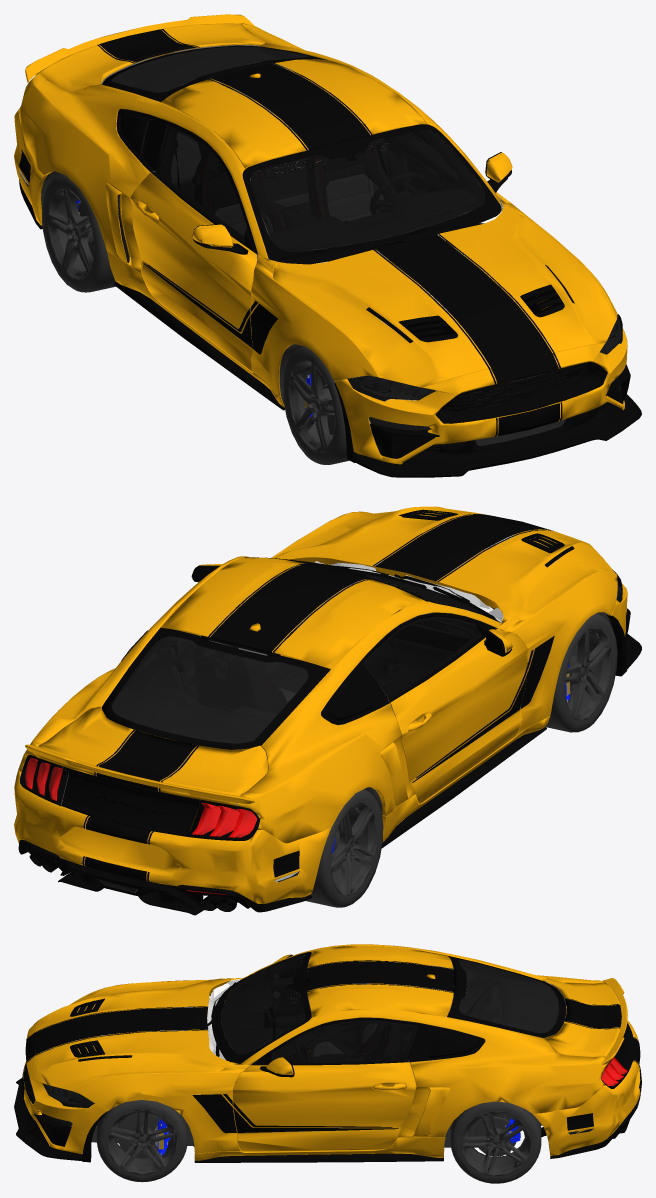
Rendered from ford-mustang-roush.glb.
3 renders of one model, top to bottom at view 1: azimuth 30°, elevation 25°; view 2: azimuth 150°, elevation 25°; view 3: azimuth 270°, elevation 25°, orthographic. The views are drawn at different scales.
Visible parts, largest first — view 1: Object_13, Object_24, Object_5, Object_16, Object_29, Object_4, Object_9, Object_2, Object_17; view 2: Object_13, Object_24, Object_16, Object_4, Object_29, Object_5, Object_11, Object_22; view 3: Object_13, Object_24, Object_16, Object_28, Object_5, Object_4, Object_22, Object_2, Object_11, Object_17, Object_27.
Part boxes in pixels (x1,y1,x2,y2): Object_13: [14, 14, 627, 464]; Object_24: [19, 44, 641, 477]; Object_5: [20, 124, 622, 430]; Object_16: [19, 29, 574, 436]; Object_29: [42, 174, 349, 464]; Object_4: [111, 46, 308, 92]; Object_9: [470, 373, 565, 445]; Object_2: [41, 47, 607, 462]; Object_17: [46, 44, 488, 328]; Object_13: [14, 506, 627, 903]; Object_24: [18, 509, 641, 915]; Object_16: [82, 514, 574, 881]; Object_4: [111, 636, 308, 743]; Object_29: [305, 613, 617, 907]; Object_5: [97, 557, 622, 892]; Object_11: [25, 757, 256, 894]; Object_22: [315, 525, 556, 625]; Object_13: [23, 944, 640, 1160]; Object_24: [14, 952, 641, 1162]; Object_16: [22, 960, 641, 1133]; Object_28: [96, 1100, 541, 1183]; Object_5: [41, 954, 593, 1134]; Object_4: [459, 960, 559, 1033]; Object_22: [40, 978, 242, 1094]; Object_2: [54, 955, 549, 1153]; Object_11: [601, 1057, 627, 1085]; Object_17: [211, 955, 617, 1137]; Object_27: [157, 1117, 520, 1155].
Size of what is drawn, in the model's own units: 1.89 by 1.25 by 4.39.
